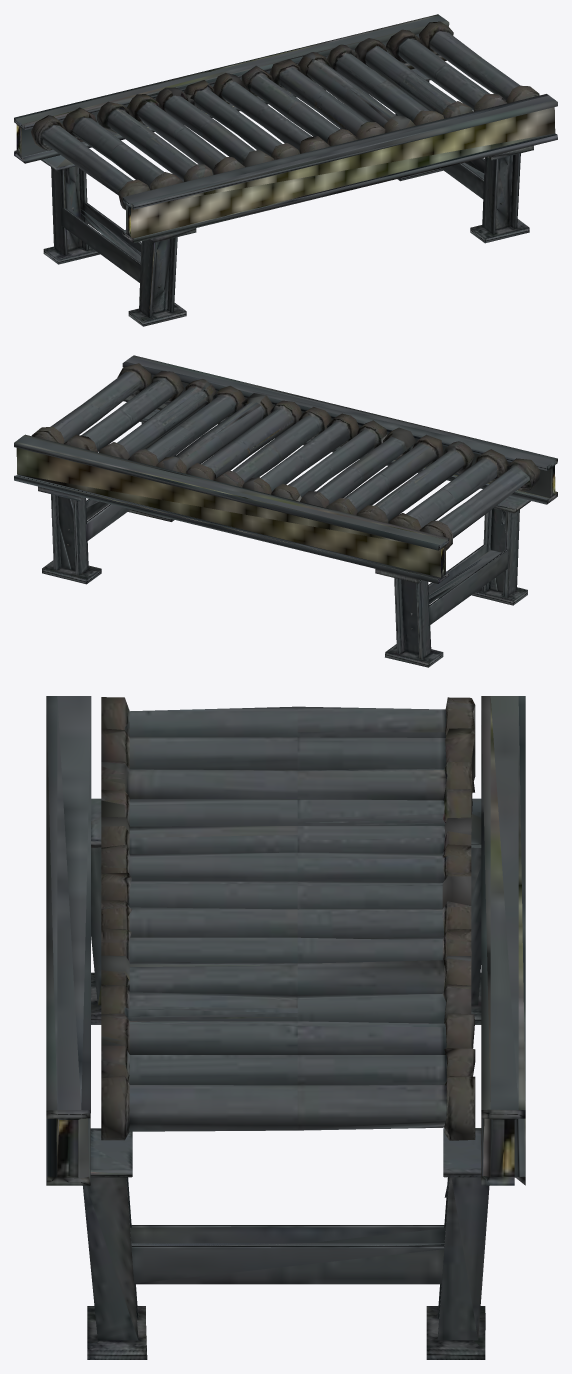
Rendered from conveyor.glb.
The picture shows the model from 3 angles, top to bottom: view 1: azimuth 30°, elevation 25°; view 2: azimuth 150°, elevation 25°; view 3: azimuth 270°, elevation 25°; orthographic projection. The views are drawn at different scales.
Bounding box in the file's own units: 0.957 × 0.3027 × 0.4683.
1 material, 1 textured.
